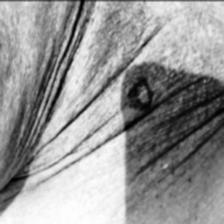Unclassified: (120, 57, 158, 144)
